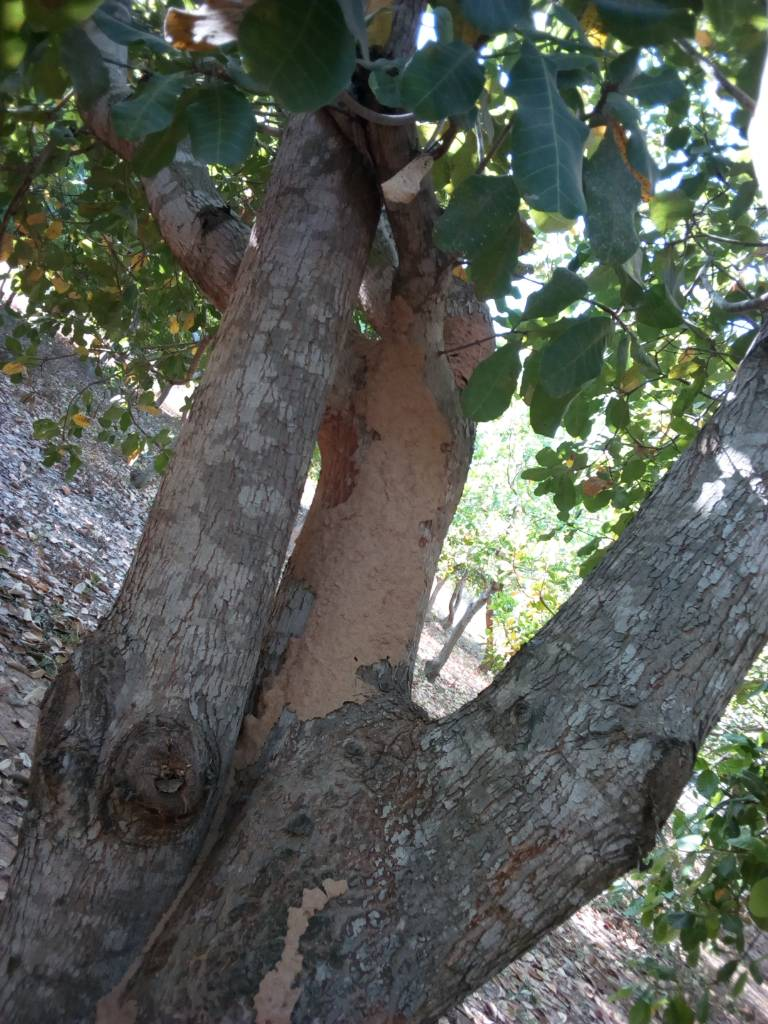Termites: (279, 363, 446, 716)
